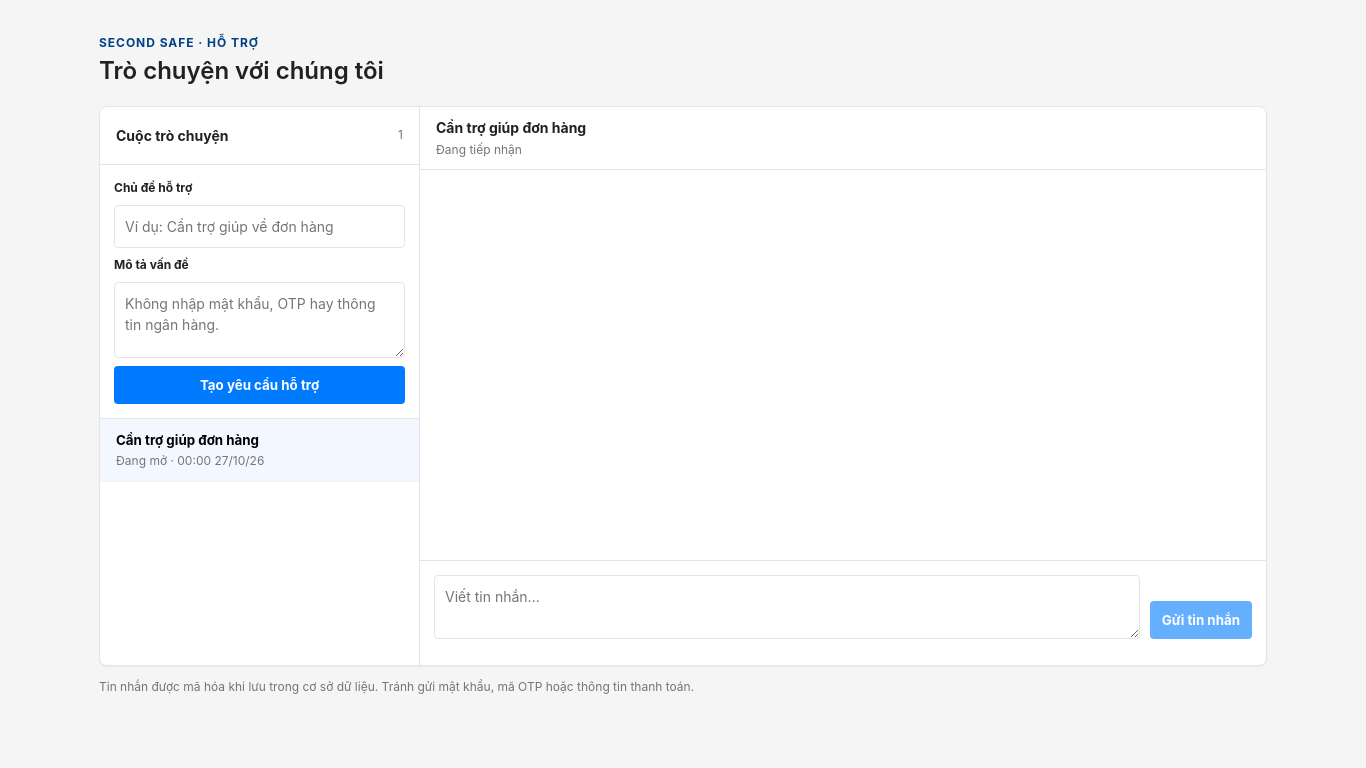
Scenario: customers can send a reply in an existing support conversation
The image size is (1366, 768).
Step 1. Type "Tôi cần kiểm tra đơn hàng." into the text box named "Tin nhắn hỗ trợ" → (787, 607), box [434,575,1140,639]
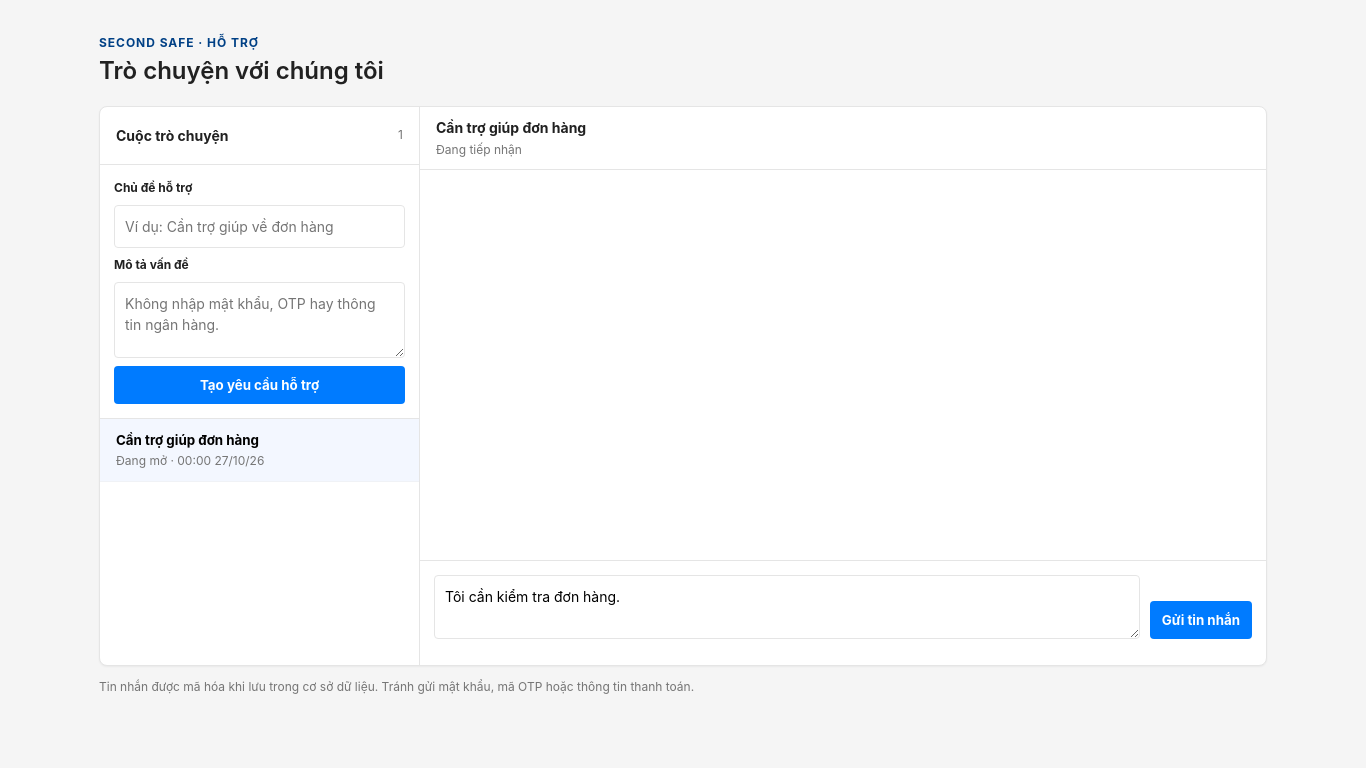
Step 2. Click the button "Gửi tin nhắn" → (1201, 620), box [1150,601,1252,639]
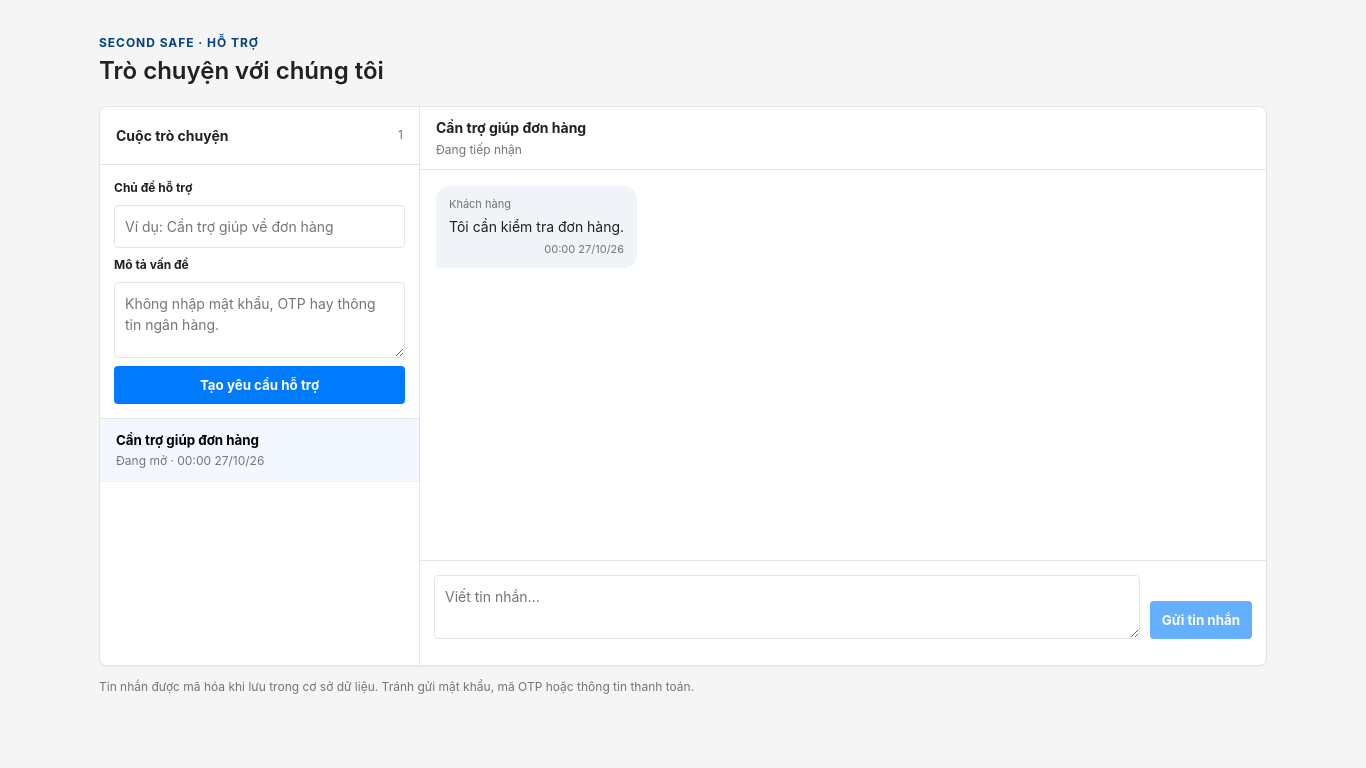
Result: the text "Tôi cần kiểm tra đơn hàng." is shown at [449,216,624,237]
